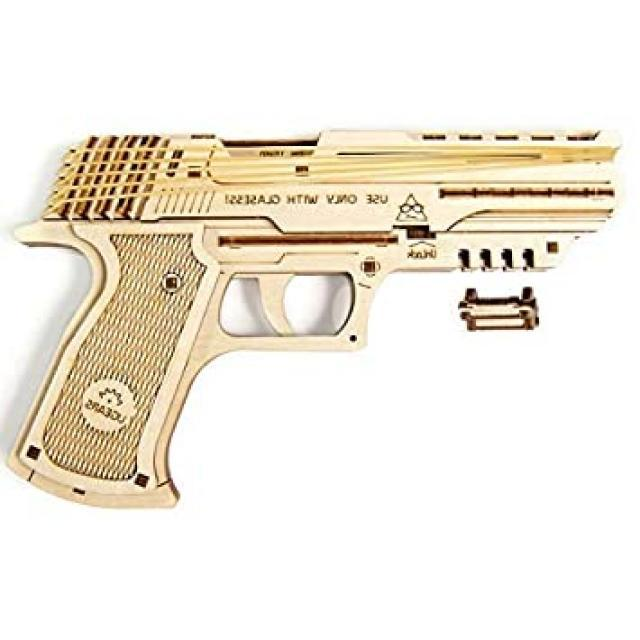pistol: (11, 98, 614, 553)
